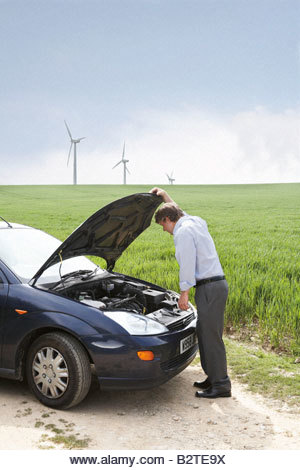working: (61, 117, 90, 173)
